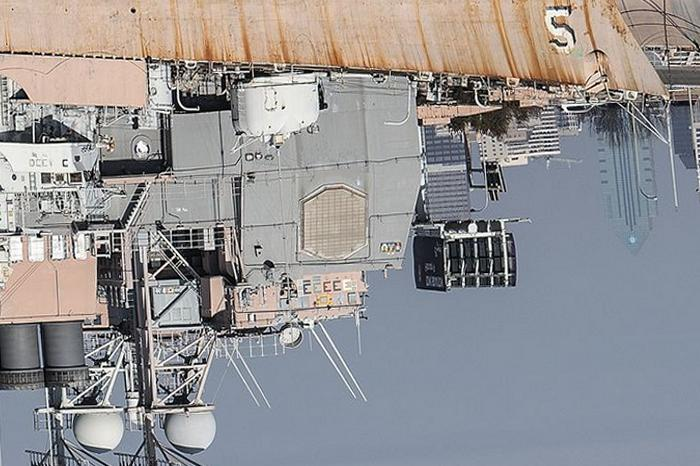rust: (14, 5, 637, 86)
